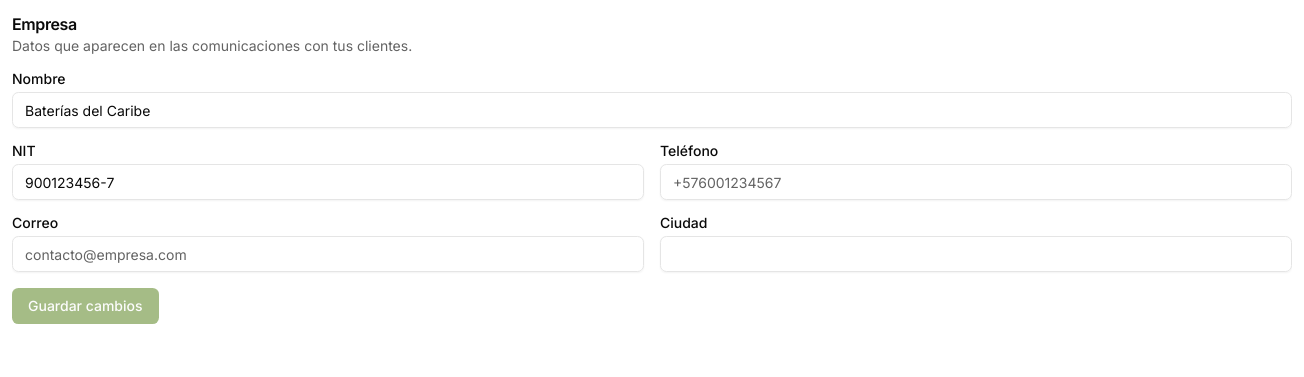
EmpresaSection › envía solo los campos editables y confirma
Expected: the field showing "Baterías del Caribe" is shown, 12,92 -> 1292,128
In the field labelled "Ciudad": (976, 254) 660,236 -> 1292,272, type "Cali"
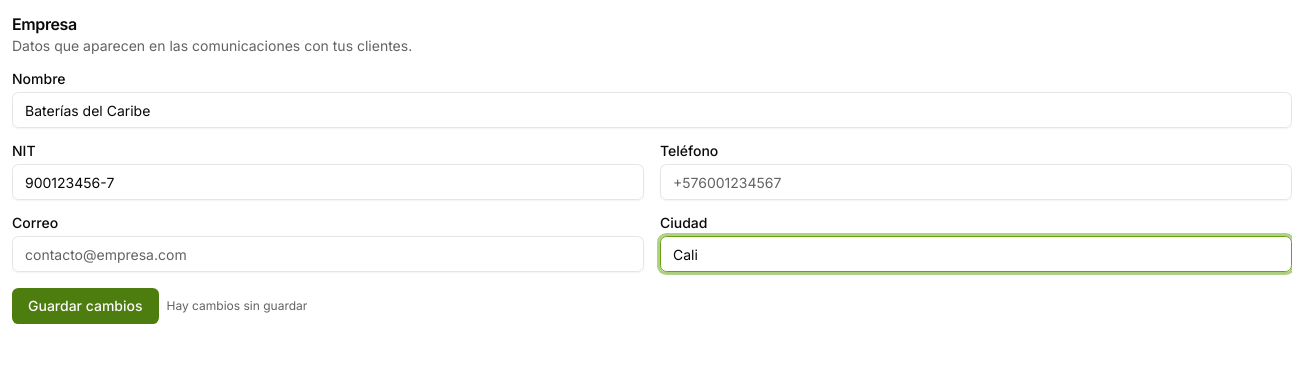
Click the button "Guardar cambios": (85, 306) 12,288 -> 158,324
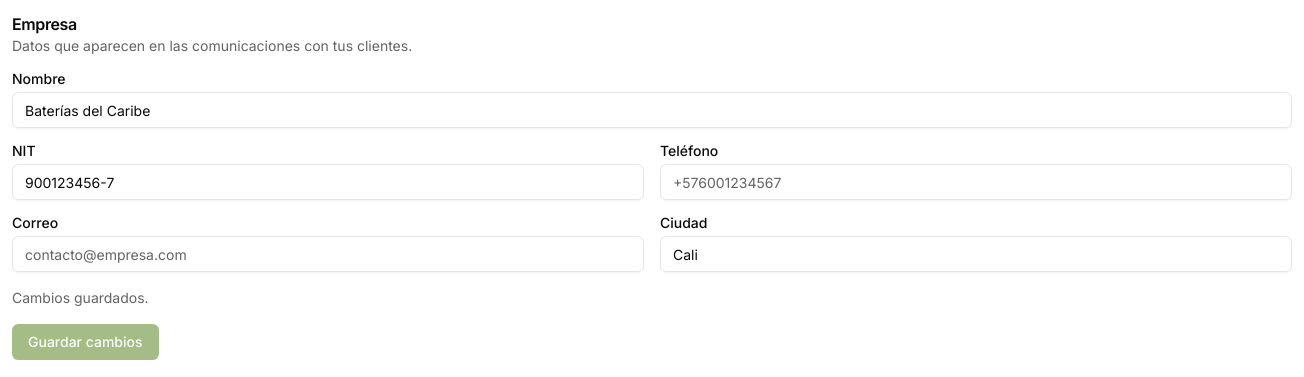
Result: the text "Cambios guardados." is shown at 12,289 -> 149,306
